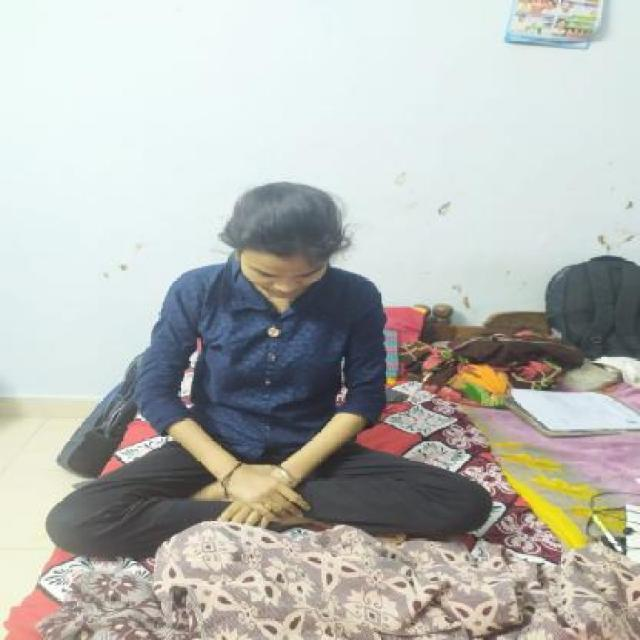good: (127, 165, 396, 457)
